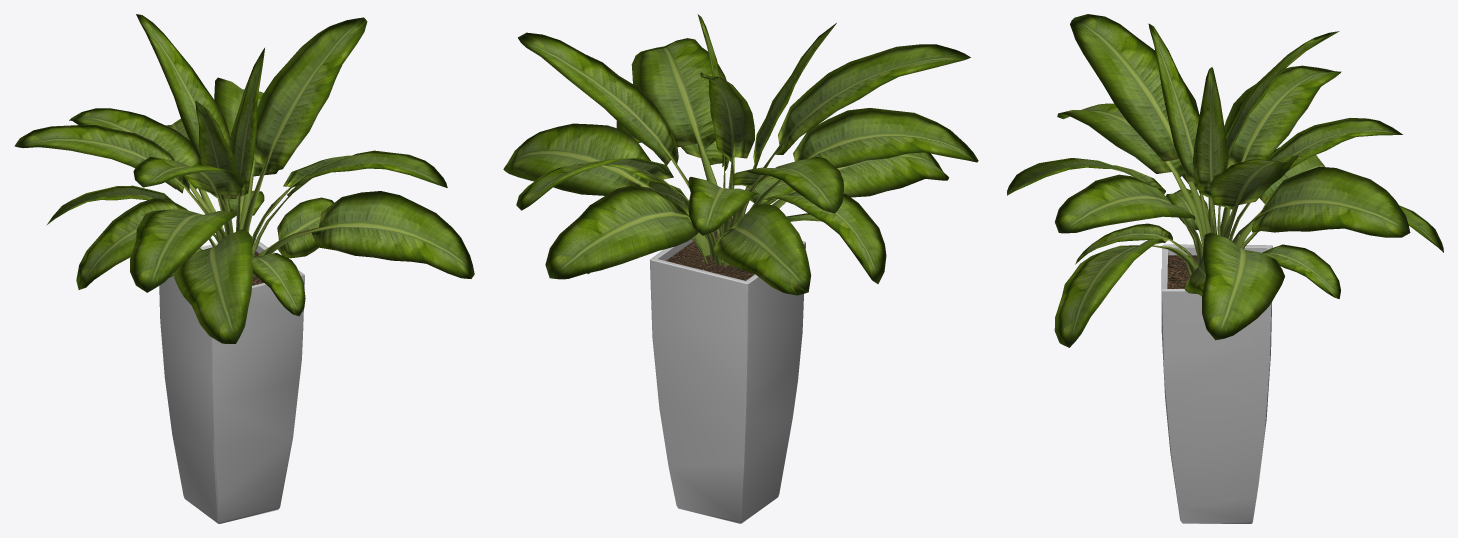
Rendered from Plant 1.FBX.
3 renders of one model, left to right at view 1: azimuth 30°, elevation 25°; view 2: azimuth 150°, elevation 25°; view 3: azimuth 270°, elevation 25°, orthographic. The views are drawn at different scales.
Parts seen in each view (by area): view 1: plant 1; view 2: plant 1; view 3: plant 1.
Boxes of the visible parts, x1,y1,x2,y2 form: plant 1: [14, 14, 474, 523]; plant 1: [503, 14, 978, 523]; plant 1: [1007, 14, 1443, 523].
Bounding box in the file's own units: 86.29 × 100 × 86.05.
